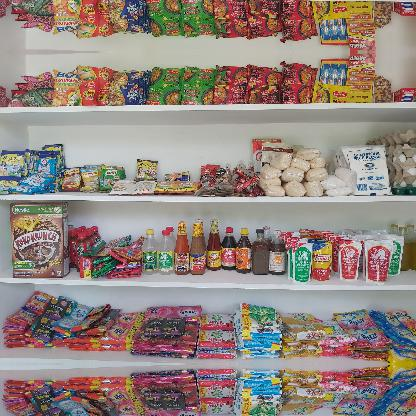Koko-Krunch: (9, 200, 71, 278)
